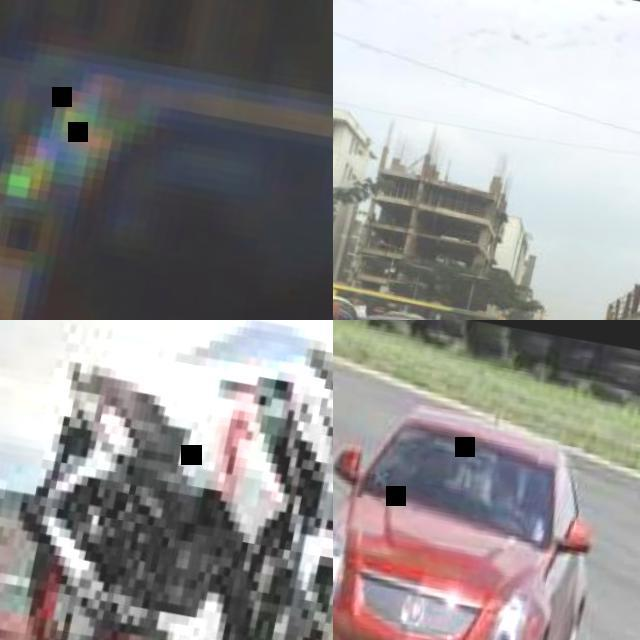car: (336, 390, 598, 639)
